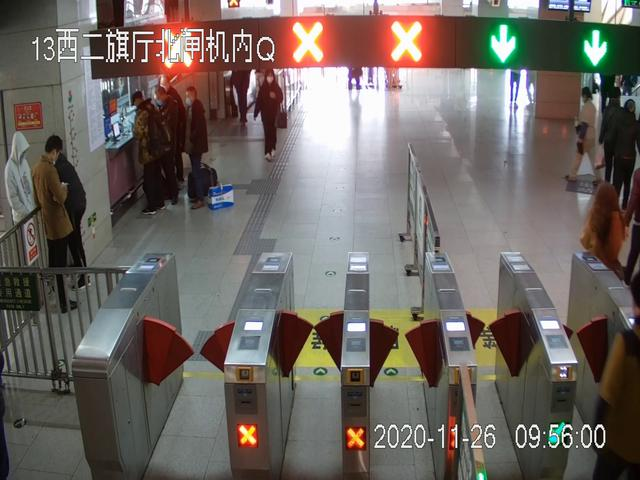person: (33, 135, 82, 312), (581, 181, 627, 320), (129, 90, 173, 216), (3, 130, 38, 266), (182, 85, 216, 210), (566, 87, 601, 192), (254, 68, 287, 162), (613, 98, 640, 208)
